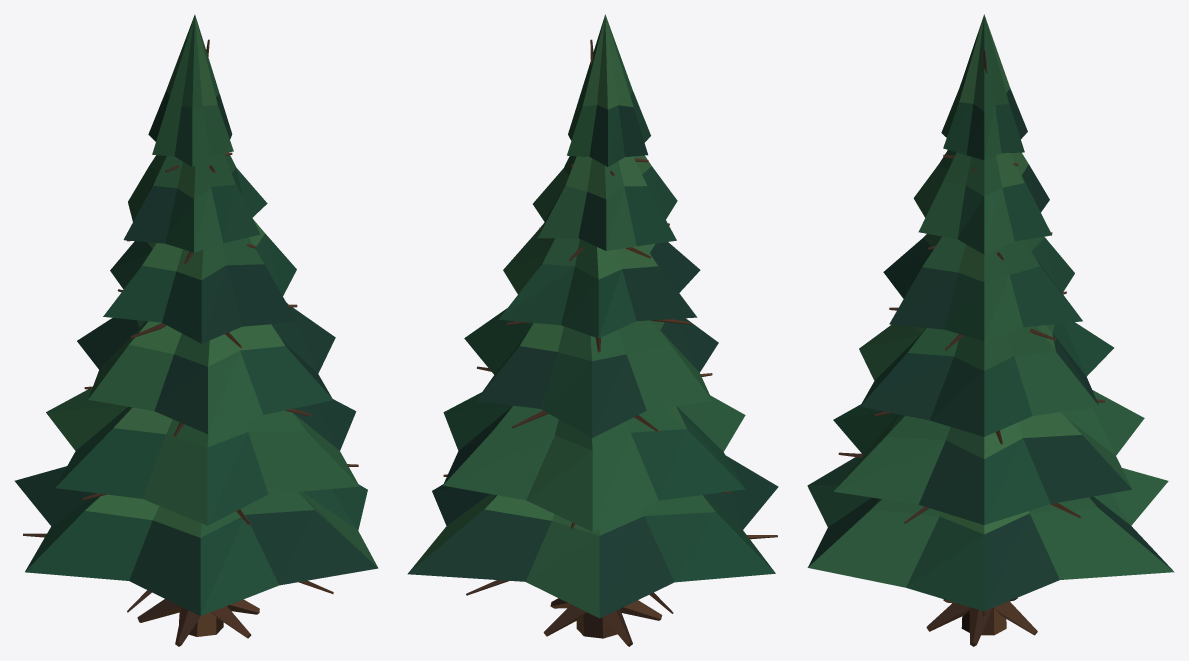
File: tree_spruce_green.obj
3 renders of one model, left to right at view 1: azimuth 30°, elevation 25°; view 2: azimuth 150°, elevation 25°; view 3: azimuth 270°, elevation 25°, orthographic.
Parts seen in each view (by area): view 1: tree_spruce_green; view 2: tree_spruce_green; view 3: tree_spruce_green.
Boxes of the visible parts, x1,y1,x2,y2 form: tree_spruce_green: (14, 14, 378, 646); tree_spruce_green: (407, 14, 778, 646); tree_spruce_green: (807, 14, 1174, 646).
Size of the model in its own units: 403 by 690 by 377.
1 material, 1 textured.
